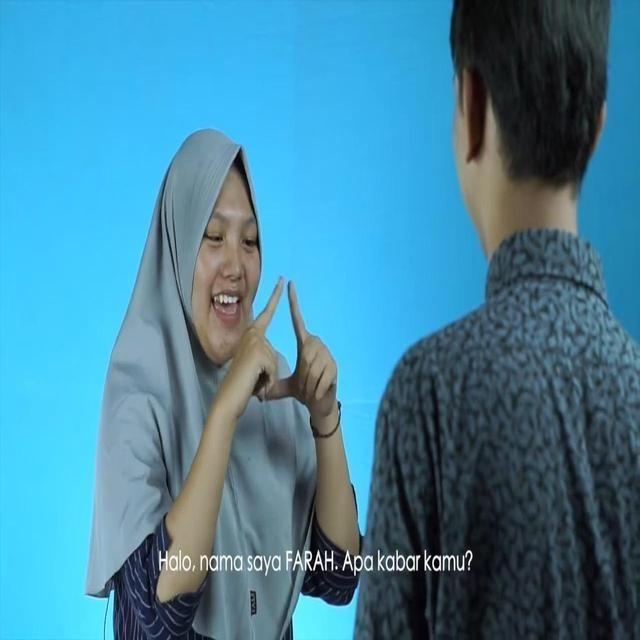A: (172, 257, 386, 491)
